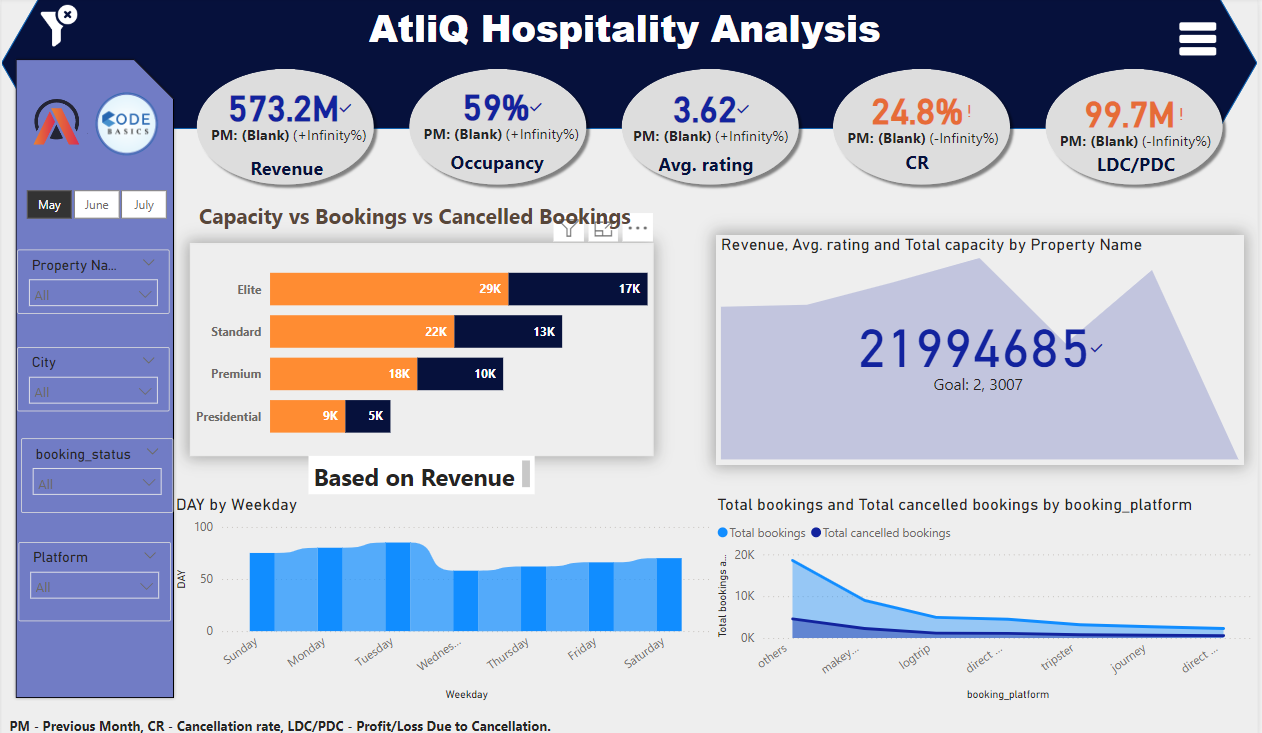

What the dashboard file says about the page in this screenshot:
{"tool":"powerbi","page":{"name":"Monthly","canvas":[1280,760],"ordinal":1},"visuals":[{"type":"group","id":"g1","title":"visuals","box":[0,0,1280,760.7],"z":0},{"type":"textbox","box":[0,727.8,1063.8,32.8],"z":0,"group":"g1"},{"type":"shape","box":[0,0,1280,134.4],"z":1000,"group":"g1"},{"type":"image","box":[33.1,0,52.2,58.6],"z":1000},{"type":"shape","box":[840.8,65.9,194.5,131.9],"z":2000,"group":"g1"},{"type":"shape","box":[624.8,65.9,194.5,131.9],"z":3000,"group":"g1"},{"type":"textbox","box":[691.5,487.7,574.3,38.2],"z":3000},{"type":"shape","box":[192.9,65.9,194.5,131.9],"z":4000,"group":"g1"},{"type":"textbox","box":[173.2,203.8,496.7,47.1],"z":4000},{"type":"shape","box":[408.9,65.9,194.5,131.9],"z":5000,"group":"g1"},{"type":"textbox","box":[313.3,467.4,230.5,39.5],"z":5000},{"type":"shape","box":[11.5,59.3,168.2,657.8],"z":6000,"group":"g1"},{"type":"shape","box":[1056.7,65.9,194.5,131.9],"z":7000,"group":"g1"},{"type":"ribbonChart","fields":{"Category":["dim_date.week no","Week_day.Weekday"],"Y":["Sum(dim_date.DAY)"]},"box":[173.2,506.8,555.2,215.2],"z":8000,"group":"g1"},{"type":"areaChart","fields":{"Category":["fact_bookings.booking_platform"],"Y":["resource_measures.Total bookings","resource_measures.Total cancelled bookings"]},"box":[724.6,506.8,555.2,215.2],"z":8000},{"type":"slicer","fields":{"Values":["dim_date.mmm yy.Variation.Date Hierarchy.Month"]},"box":[0,189.6,192.9,42.9],"z":9000,"group":"g1"},{"type":"kpi","title":"Revenue","fields":{"Indicator":["resource_measures.revenue"],"TrendLine":["dim_date.date.Variation.Date Hierarchy.Month"],"Goal":["resource_measures.revenue LM"]},"box":[204.4,92.3,176.4,62.6],"z":10000,"group":"g1"},{"type":"kpi","fields":{"Indicator":["resource_measures.Occupancy %"],"TrendLine":["dim_date.date.Variation.Date Hierarchy.Month"],"Goal":["resource_measures.Occupancy % LM"]},"box":[423.7,89,171.5,65.9],"z":11000,"group":"g1"},{"type":"kpi","fields":{"Goal":["resource_measures.cancellation rate LM"],"TrendLine":["dim_date.date.Variation.Date Hierarchy.Month"],"Indicator":["resource_measures.CR"]},"box":[852.3,90.7,174.8,72.5],"z":12000,"group":"g1"},{"type":"kpi","fields":{"Indicator":["resource_measures.LDC"],"Goal":["resource_measures.LDC LM"],"TrendLine":["dim_date.date.Variation.Date Hierarchy.Month"]},"box":[1068.3,89,174.8,80.8],"z":13000,"group":"g1"},{"type":"kpi","title":"Avg. rating ","fields":{"Indicator":["resource_measures.Avg. rating"],"TrendLine":["dim_date.date.Variation.Date Hierarchy.Month"],"Goal":["resource_measures.avg.rating LM"]},"box":[631.4,92.3,183,65.9],"z":14000,"group":"g1"},{"type":"textbox","box":[1083.1,153.3,145.1,46.2],"z":15000,"group":"g1"},{"type":"textbox","box":[860.6,150,145.1,44.5],"z":16000,"group":"g1"},{"type":"textbox","box":[646.2,153.3,145.1,44.5],"z":17000,"group":"g1"},{"type":"textbox","box":[433.6,150,145.1,44.5],"z":18000,"group":"g1"},{"type":"textbox","box":[217.6,156.6,146.7,37.9],"z":19000,"group":"g1"},{"type":"textbox","box":[1.9,0,1278.1,65.6],"z":20000,"group":"g1"},{"type":"image","title":"three dot menu","box":[1186.9,19.1,64.9,47.1],"z":21000,"group":"g1"},{"type":"slicer","fields":{"Values":["dim_hotels.property_name"]},"box":[16.5,257.2,155,65.9],"z":22000,"group":"g1"},{"type":"slicer","fields":{"Values":["dim_hotels.city"]},"box":[16.5,356.1,155,65.9],"z":23000,"group":"g1"},{"type":"slicer","fields":{"Values":["fact_bookings.booking_status"]},"box":[19.8,450.1,155,75.8],"z":24000,"group":"g1"},{"type":"slicer","fields":{"Values":["fact_bookings.booking_platform"]},"box":[18.1,555.6,155,80.8],"z":25000,"group":"g1"},{"type":"image","title":"atliq","box":[15.1,90.4,77.6,73.8],"z":26000,"group":"g1"},{"type":"image","title":"codebasics","box":[85.2,90.4,85.2,77.6],"z":27000,"group":"g1"},{"type":"barChart","title":"Capacity vs Bookings vs Cancelled Bookings","fields":{"Category":["dim_rooms.room_class"],"Y":["resource_measures.Total capacity","resource_measures.Total sucessful bookings"]},"box":[192.6,250.2,471.7,216.9],"z":28000,"group":"g1"},{"type":"kpi","fields":{"TrendLine":["dim_hotels.property_name"],"Indicator":["resource_measures.revenue"],"Goal":["resource_measures.Avg. rating","resource_measures.Total capacity"]},"box":[728.4,242,537.4,234.3],"z":30000,"group":"g1"}]}

Visuals, with their boxes in screenshot pixels (x1, y1, x2, y2), scaled from the page's 1280x760 canvas onto the 1262x733 screenshot:
"visuals" group: x1=0 y1=0 x2=1261 y2=732
textbox: x1=0 y1=702 x2=1049 y2=732
shape: x1=0 y1=0 x2=1261 y2=130
image: x1=33 y1=0 x2=84 y2=57
shape: x1=829 y1=64 x2=1021 y2=191
shape: x1=616 y1=64 x2=808 y2=191
textbox: x1=682 y1=470 x2=1248 y2=507
shape: x1=190 y1=64 x2=382 y2=191
textbox: x1=171 y1=197 x2=660 y2=242
shape: x1=403 y1=64 x2=595 y2=191
textbox: x1=309 y1=451 x2=536 y2=489
shape: x1=11 y1=57 x2=177 y2=692
shape: x1=1042 y1=64 x2=1234 y2=191
ribbonChart - dim_date.week no x Week_day.Weekday: x1=171 y1=489 x2=718 y2=696
areaChart - fact_bookings.booking_platform x resource_measures.Total bookings: x1=714 y1=489 x2=1261 y2=696
slicer - dim_date.mmm yy.Variation.Date Hierarchy.Month: x1=0 y1=183 x2=190 y2=224
"Revenue" kpi: x1=202 y1=89 x2=375 y2=149
kpi - resource_measures.Occupancy % x dim_date.date.Variation.Date Hierarchy.Month: x1=418 y1=86 x2=587 y2=149
kpi - resource_measures.cancellation rate LM x dim_date.date.Variation.Date Hierarchy.Month: x1=840 y1=87 x2=1013 y2=157
kpi - resource_measures.LDC x resource_measures.LDC LM: x1=1053 y1=86 x2=1226 y2=164
"Avg. rating " kpi: x1=623 y1=89 x2=803 y2=153
textbox: x1=1068 y1=148 x2=1211 y2=192
textbox: x1=848 y1=145 x2=992 y2=188
textbox: x1=637 y1=148 x2=780 y2=191
textbox: x1=428 y1=145 x2=571 y2=188
textbox: x1=215 y1=151 x2=359 y2=188
textbox: x1=2 y1=0 x2=1261 y2=63
"three dot menu" image: x1=1170 y1=18 x2=1234 y2=64
slicer - dim_hotels.property_name: x1=16 y1=248 x2=169 y2=312
slicer - dim_hotels.city: x1=16 y1=343 x2=169 y2=407
slicer - fact_bookings.booking_status: x1=20 y1=434 x2=172 y2=507
slicer - fact_bookings.booking_platform: x1=18 y1=536 x2=171 y2=614
"atliq" image: x1=15 y1=87 x2=91 y2=158
"codebasics" image: x1=84 y1=87 x2=168 y2=162
"Capacity vs Bookings vs Cancelled Bookings" barChart: x1=190 y1=241 x2=655 y2=451
kpi - dim_hotels.property_name x resource_measures.revenue: x1=718 y1=233 x2=1248 y2=459
